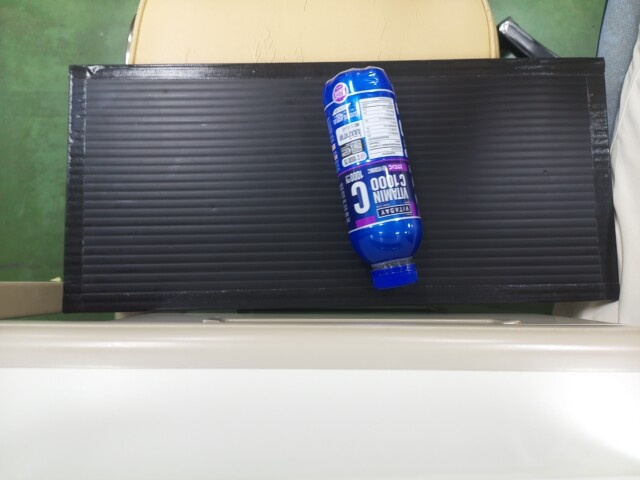plastic_bottle: (321, 65, 417, 286)
